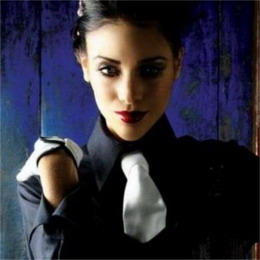tie: (113, 151, 172, 243)
